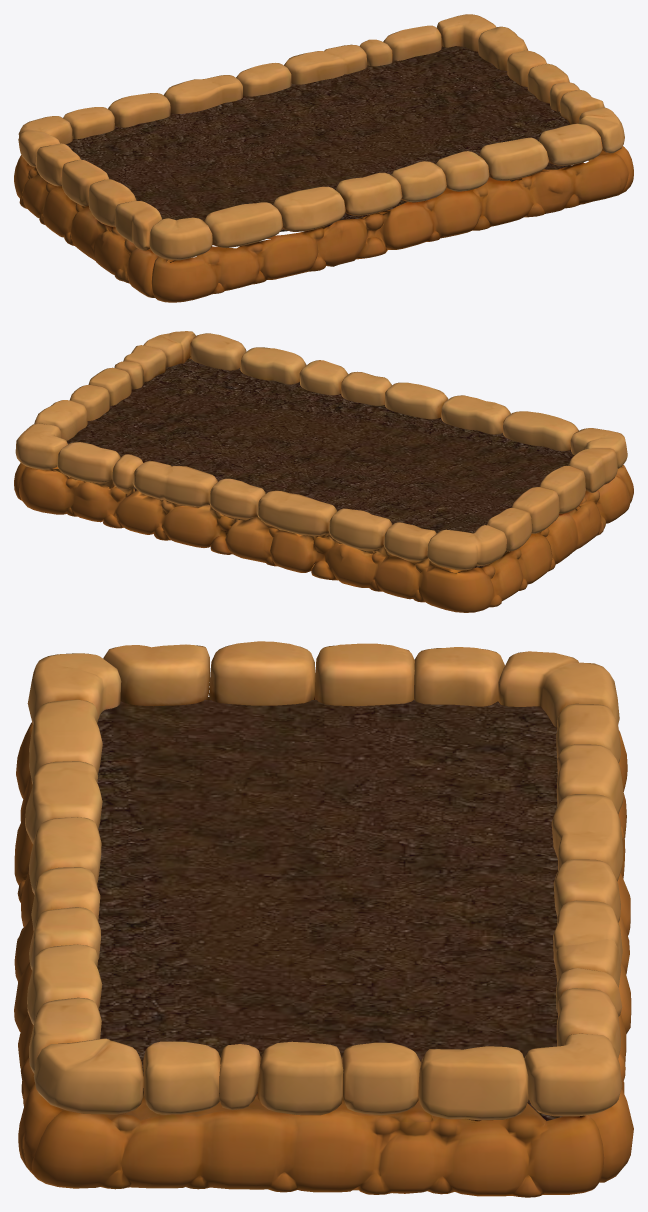
3 renders of one model, top to bottom at view 1: azimuth 30°, elevation 25°; view 2: azimuth 150°, elevation 25°; view 3: azimuth 270°, elevation 25°, orthographic. The views are drawn at different scales.
Parts seen in each view (by area): view 1: garden-bed; view 2: garden-bed; view 3: garden-bed.
Boxes of the visible parts, box(x1,y1,x2,y2) form: garden-bed: box(14, 14, 633, 302); garden-bed: box(14, 331, 633, 612); garden-bed: box(14, 641, 633, 1197).
Bounding box in the file's own units: 1.5 × 0.2144 × 0.9017.
1 material, 1 textured.
